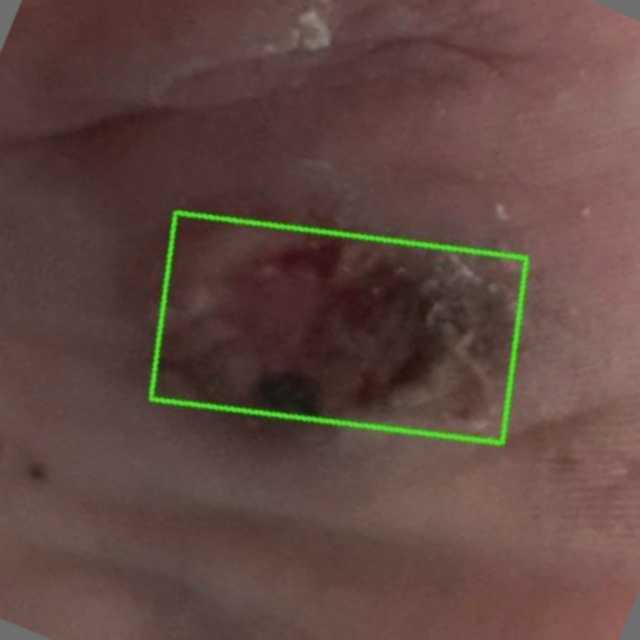Eczema: (150, 213, 524, 443)
